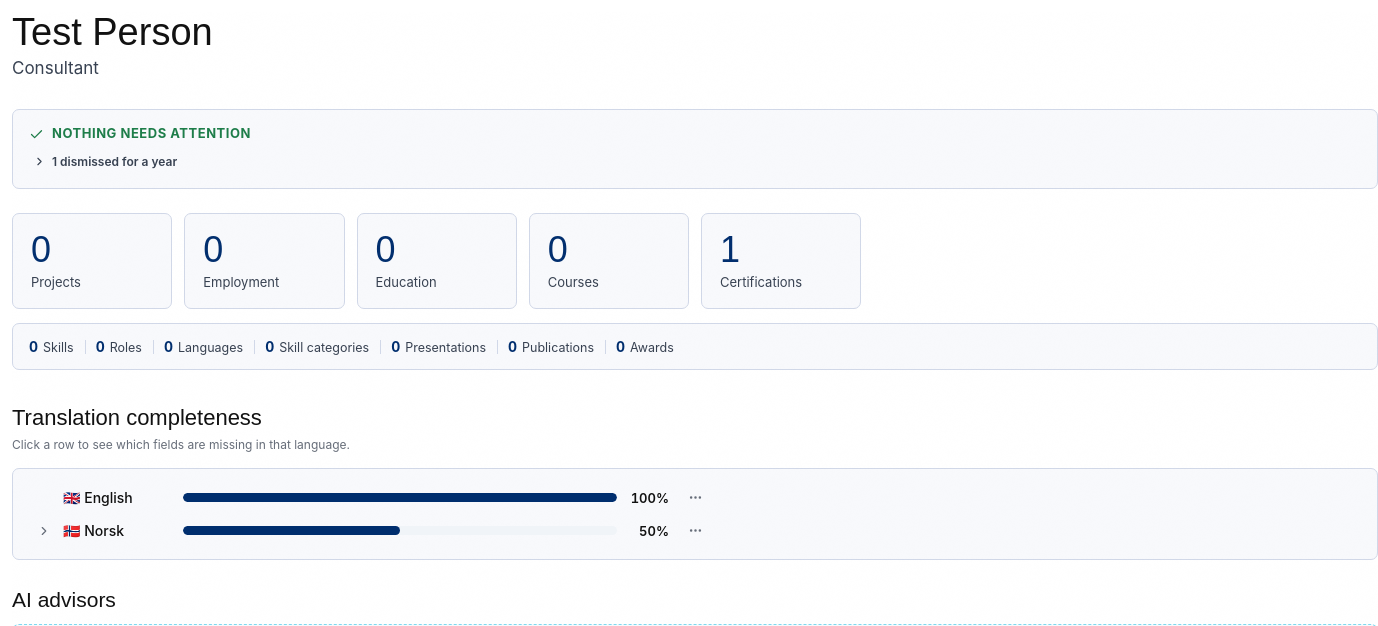
Test: <Overview> needs-attention panel (F3) › restoring a snoozed warning brings it back
The width and height of the screenshot is (1378, 626).
Note: Open the snoozed disclosure, then restore.
Click the button "1 dismissed for a year": click(105, 161) [29,152,181,171]
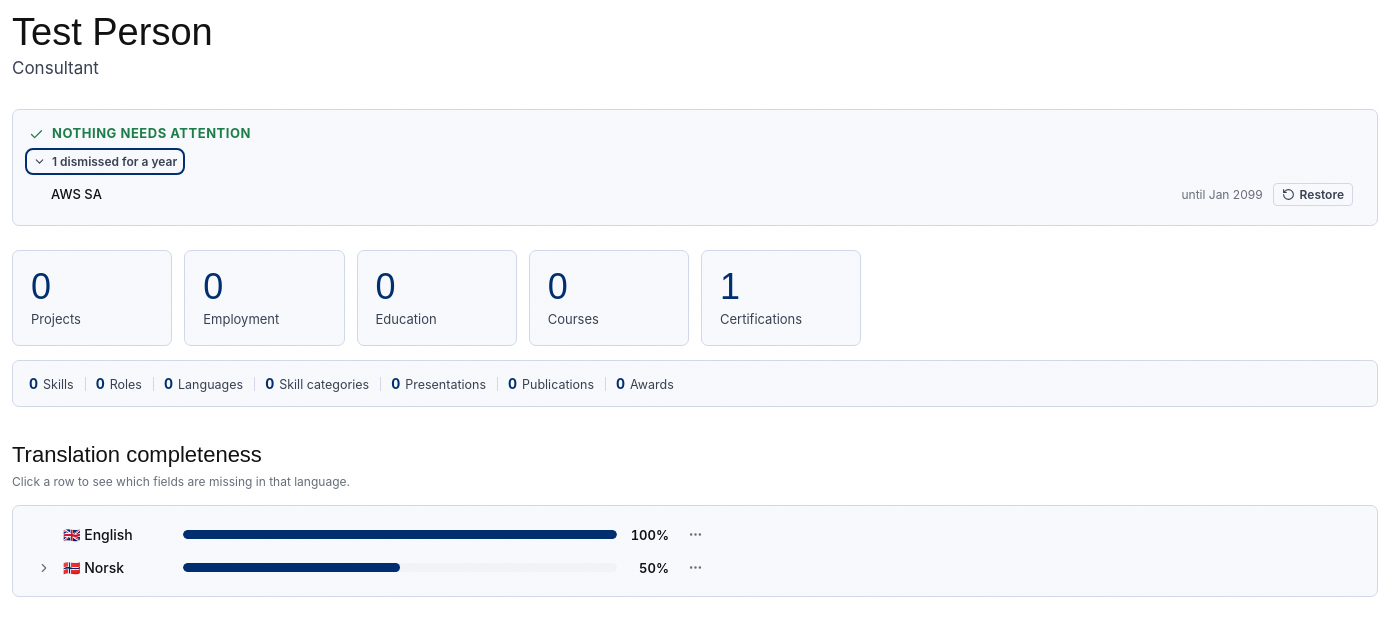
Click the button with aria-label "restore warning for AWS SA": click(1313, 195) [1273,183,1353,206]
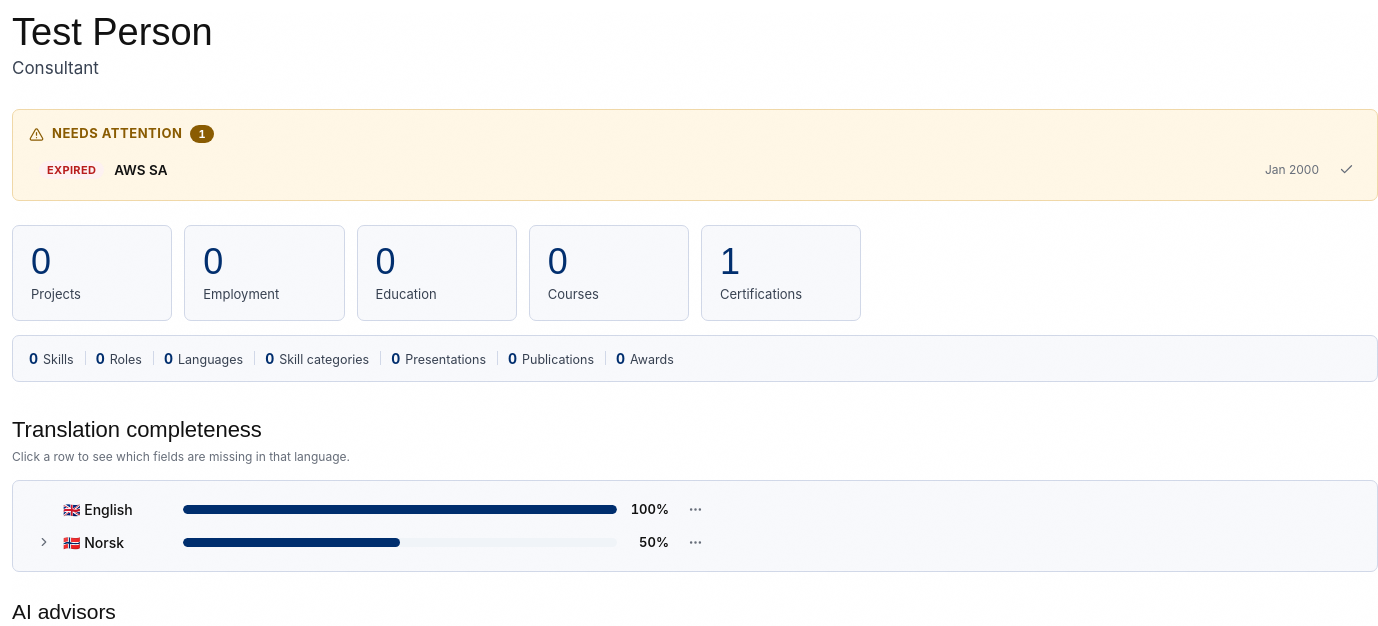
Expected: the text "Expired" is shown, [39,161,104,179]
